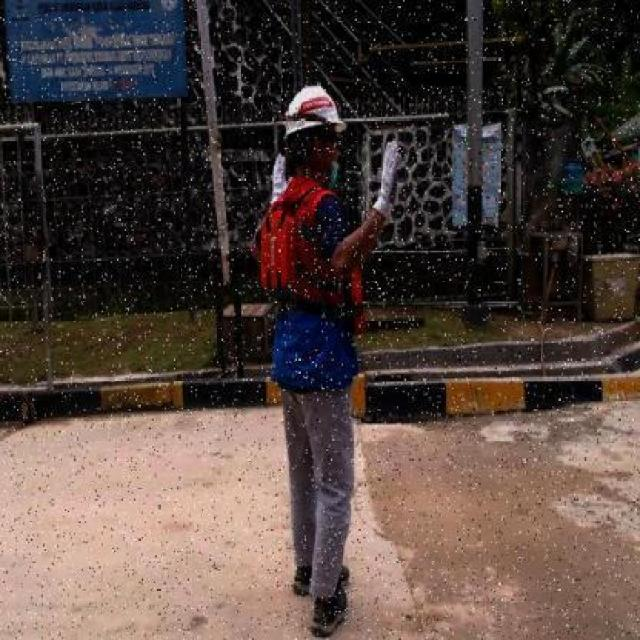Boots: (291, 560, 355, 597), (311, 580, 347, 638)
Gloves: (370, 137, 404, 220), (269, 152, 293, 206)
Helmet: (282, 87, 347, 138)
Mask: (322, 158, 340, 190)
Vest: (252, 188, 377, 541)
